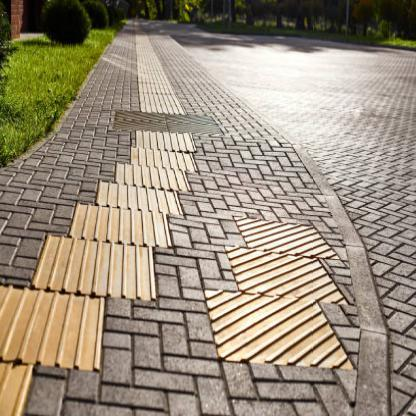podotacti: (0, 31, 185, 414), (213, 221, 326, 368)
